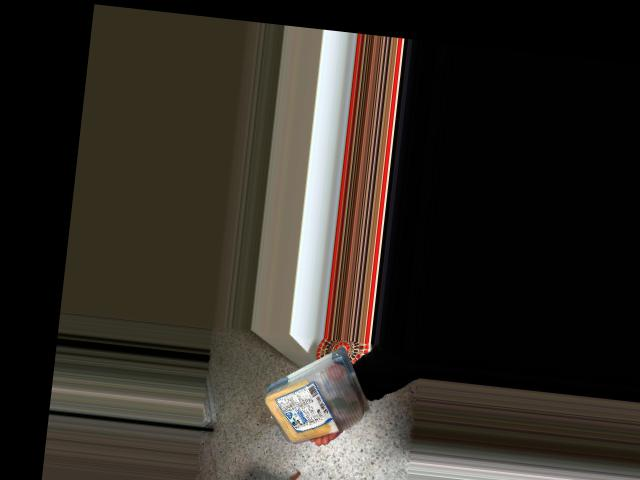cheese: (261, 354, 364, 448)
